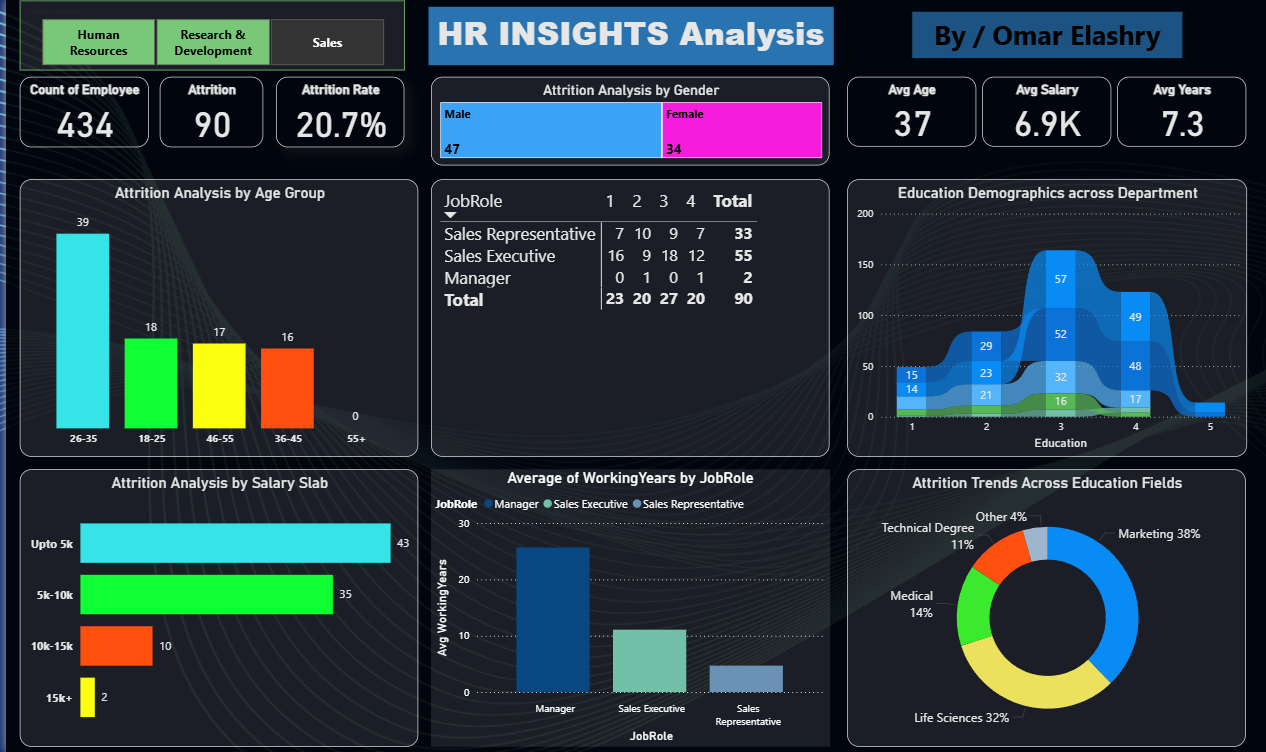

The dashboard page shown, as its layout file describes it:
{"tool":"powerbi","page":{"name":"Page 1","canvas":[1500,900],"ordinal":0},"visuals":[{"type":"card","title":"Count of Employee","fields":{"Values":["CountNonNull(HR_Analytics.EmpID)"]},"box":[16.8,93.6,153.7,83.8],"z":0},{"type":"card","title":"Attrition","fields":{"Values":["Sum(HR_Analytics.AttritionCount)"]},"box":[183,93.6,122.9,83.8],"z":1000},{"type":"card","title":"Attrition Rate","fields":{"Values":["HR_Analytics.AttritionRate"]},"box":[321.3,93.6,153,83.8],"z":2000},{"type":"card","title":"Avg Age","fields":{"Values":["Avg(HR_Analytics.Age)"]},"box":[1001.5,93.8,153.3,83.3],"z":3000},{"type":"card","title":"Avg Salary","fields":{"Values":["Avg(HR_Analytics.MonthlyIncome)"]},"box":[1162.2,93.8,153.3,83.3],"z":4000},{"type":"card","title":"Avg Years","fields":{"Values":["Avg(HR_Analytics.YearsAtCompany)"]},"box":[1322.9,93.8,153.3,83.3],"z":5000},{"type":"donutChart","title":"Attrition Trends Across Education Fields","fields":{"Category":["HR_Analytics.EducationField"],"Y":["Sum(HR_Analytics.AttritionCount)"]},"box":[1001.5,561,474.7,330.4],"z":6000},{"type":"columnChart","title":"Attrition Analysis by Age Group","fields":{"Category":["HR_Analytics.AgeGroup"],"Y":["Sum(HR_Analytics.AttritionCount)"]},"box":[16.4,215.8,474.7,330.4],"z":7000},{"type":"pivotTable","fields":{"Rows":["HR_Analytics.JobRole"],"Columns":["HR_Analytics.JobSatisfaction"],"Values":["Sum(HR_Analytics.AttritionCount)"]},"box":[506,215.8,474.7,330.4],"z":8000},{"type":"barChart","title":"Attrition Analysis by Salary Slab","fields":{"Category":["HR_Analytics.SalarySlab"],"Y":["Sum(HR_Analytics.AttritionCount)"]},"box":[16.4,561,474.7,330.4],"z":9000},{"type":"treemap","title":"Attrition Analysis by Gender","fields":{"Group":["HR_Analytics.Gender"],"Values":["Sum(HR_Analytics.AttritionCount)"]},"box":[506,93.8,474.7,105.7],"z":10000},{"type":"slicer","fields":{"Values":["HR_Analytics.Department"]},"box":[16.4,3,458.3,83.3],"z":11000},{"type":"textbox","box":[503,10.4,482.1,69.9],"z":12000},{"type":"ribbonChart","title":"Education Demographics across Department ","fields":{"Y":["CountNonNull(HR_Analytics.Department)"],"Category":["HR_Analytics.Education"],"Series":["HR_Analytics.EducationField"]},"box":[1001.5,215.8,476.2,330.4],"z":13000},{"type":"columnChart","title":"Average of WorkingYears by JobRole","fields":{"Y":["Avg(HR_Analytics.TotalWorkingYears)"],"Category":["HR_Analytics.JobRole"],"Series":["HR_Analytics.JobRole"]},"box":[506,561,475,330],"z":14000},{"type":"textbox","box":[1078.9,16.4,321.4,55.1],"z":14001}]}

Visuals, with their boxes in screenshot pixels (x1, y1, x2, y2), scaled from the page's 1500x900 canvas onto the 1266x752 screenshot:
"Count of Employee" card: bbox=(14, 78, 144, 148)
"Attrition" card: bbox=(154, 78, 258, 148)
"Attrition Rate" card: bbox=(271, 78, 400, 148)
"Avg Age" card: bbox=(845, 78, 975, 148)
"Avg Salary" card: bbox=(981, 78, 1110, 148)
"Avg Years" card: bbox=(1117, 78, 1246, 148)
"Attrition Trends Across Education Fields" donutChart: bbox=(845, 469, 1246, 745)
"Attrition Analysis by Age Group" columnChart: bbox=(14, 180, 414, 456)
pivotTable - HR_Analytics.JobRole x HR_Analytics.JobSatisfaction: bbox=(427, 180, 828, 456)
"Attrition Analysis by Salary Slab" barChart: bbox=(14, 469, 414, 745)
"Attrition Analysis by Gender" treemap: bbox=(427, 78, 828, 167)
slicer - HR_Analytics.Department: bbox=(14, 3, 401, 72)
textbox: bbox=(425, 9, 831, 67)
"Education Demographics across Department " ribbonChart: bbox=(845, 180, 1247, 456)
"Average of WorkingYears by JobRole" columnChart: bbox=(427, 469, 828, 744)
textbox: bbox=(911, 14, 1182, 60)
